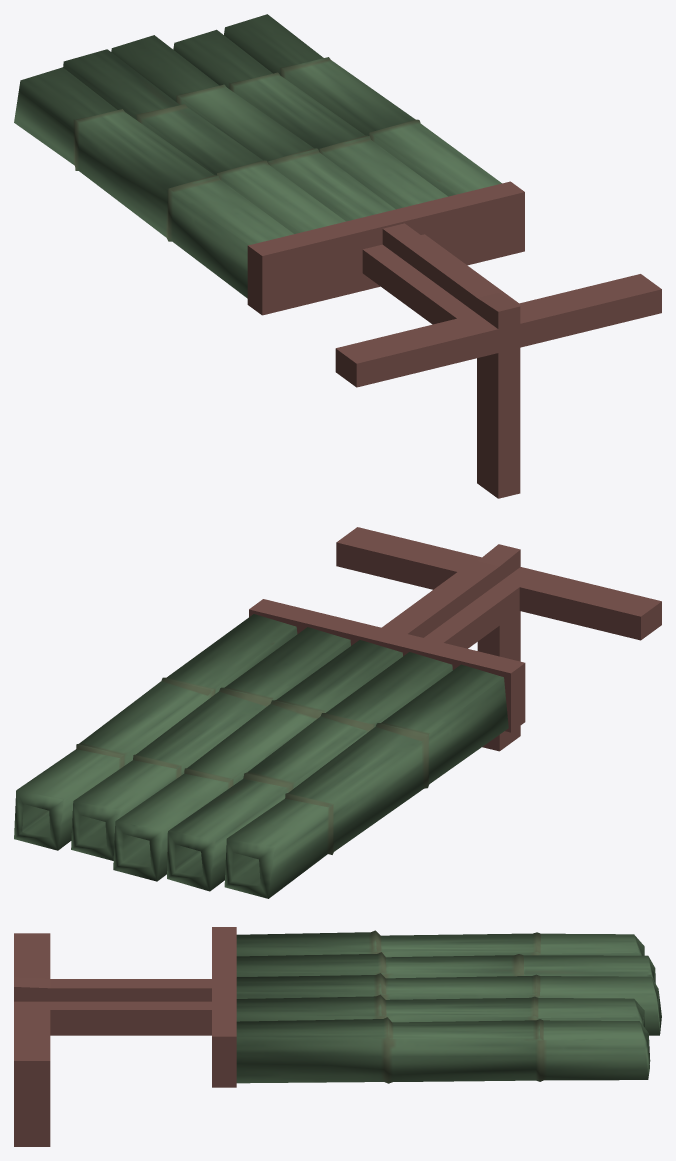
File: bamboo_mid_5.glb
3 views of the same model, one above another, from view 1: azimuth 30°, elevation 25°; view 2: azimuth 150°, elevation 25°; view 3: azimuth 270°, elevation 25° (orthographic). The views are drawn at different scales.
Parts seen in each view (by area): view 1: Obstacle, Stand.001; view 2: Obstacle, Stand.001; view 3: Obstacle, Stand.001.
Boxes of the visible parts, x1,y1,x2,y2 form: Obstacle: (14,14,501,298); Stand.001: (247,181,661,498); Obstacle: (14,614,508,898); Stand.001: (249,527,661,751); Obstacle: (236,930,661,1083); Stand.001: (14,927,236,1146).
Bounding box in the file's own units: 1.22 × 0.7135 × 2.61.
Materials: 2 (1 with a texture image).
